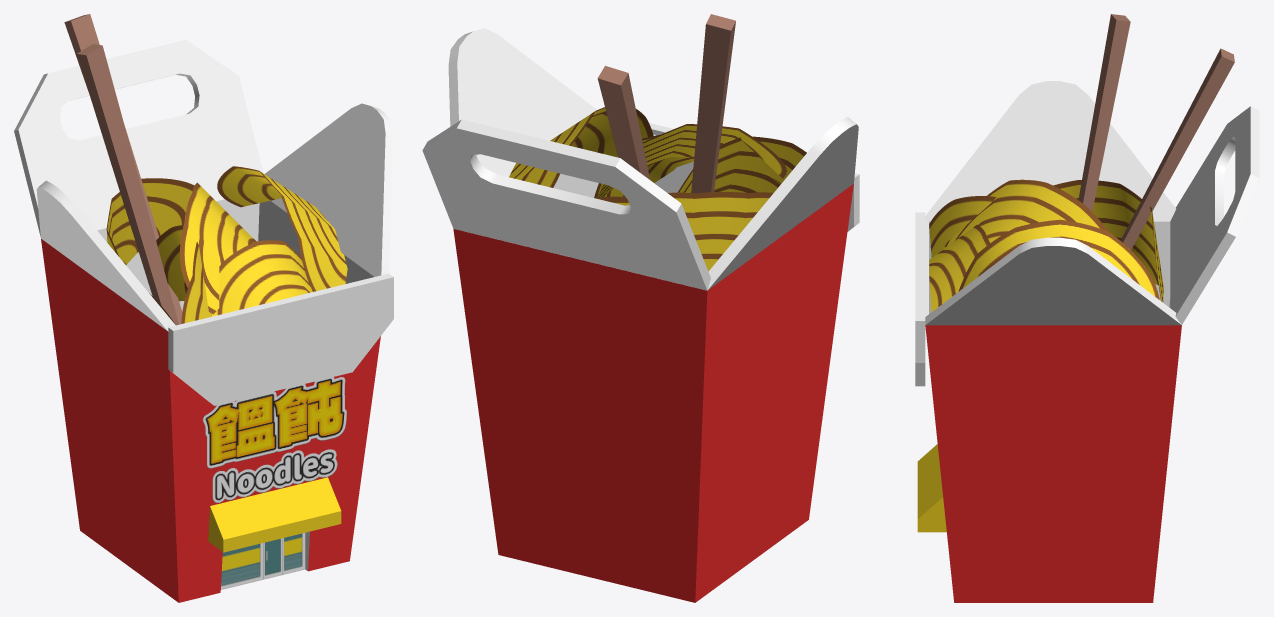
Rendered from Town_Bld_Noodles_A.FBX.
3 views of the same model, side by side, from view 1: azimuth 30°, elevation 25°; view 2: azimuth 150°, elevation 25°; view 3: azimuth 270°, elevation 25° (orthographic). The views are drawn at different scales.
Parts seen in each view (by area): view 1: Town_Bld_Noodles_A; view 2: Town_Bld_Noodles_A; view 3: Town_Bld_Noodles_A.
Part boxes in pixels (box(x1,y1,x2,y2)): Town_Bld_Noodles_A: box(14, 14, 393, 602); Town_Bld_Noodles_A: box(422, 14, 859, 602); Town_Bld_Noodles_A: box(915, 14, 1259, 602).
Size of the model in its own units: 984 by 1400 by 892.
